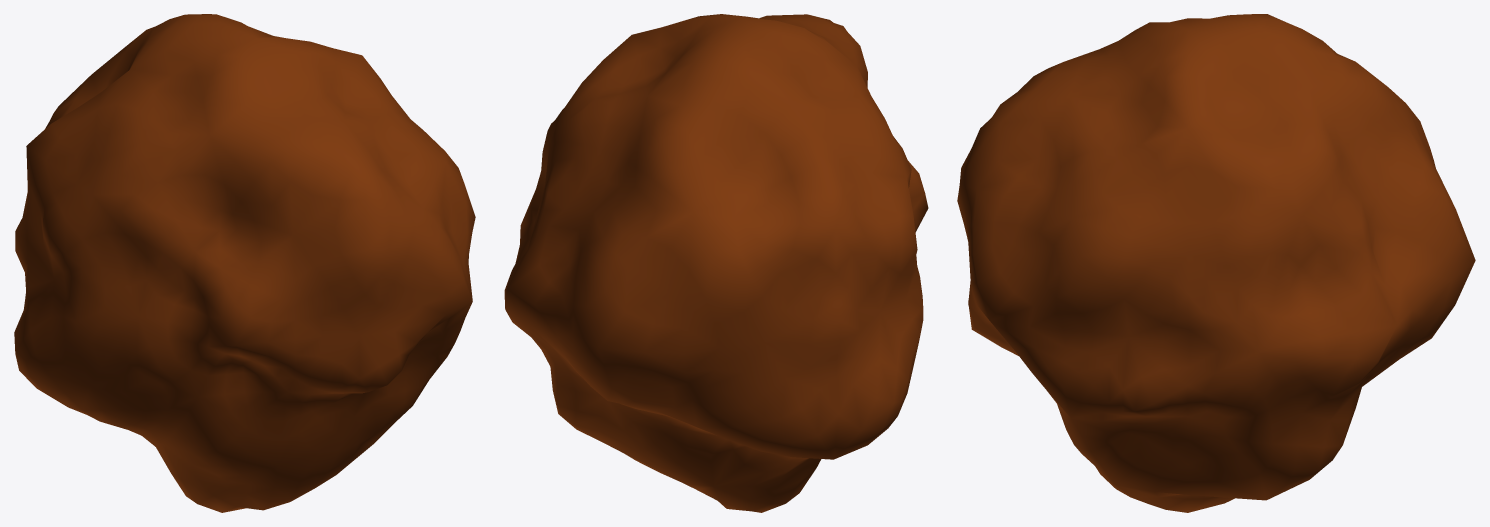
Rendered from AsteroidModel.fbx.
3 views of the same model, side by side, from view 1: azimuth 30°, elevation 25°; view 2: azimuth 150°, elevation 25°; view 3: azimuth 270°, elevation 25° (orthographic). The views are drawn at different scales.
Visible parts, largest first — view 1: Cube; view 2: Cube; view 3: Cube.
Boxes of the visible parts, bbox=[...] form: Cube: bbox=[14, 14, 475, 512]; Cube: bbox=[504, 14, 928, 512]; Cube: bbox=[957, 14, 1475, 512].
Size of the model in its own units: 730 by 869 by 842.
